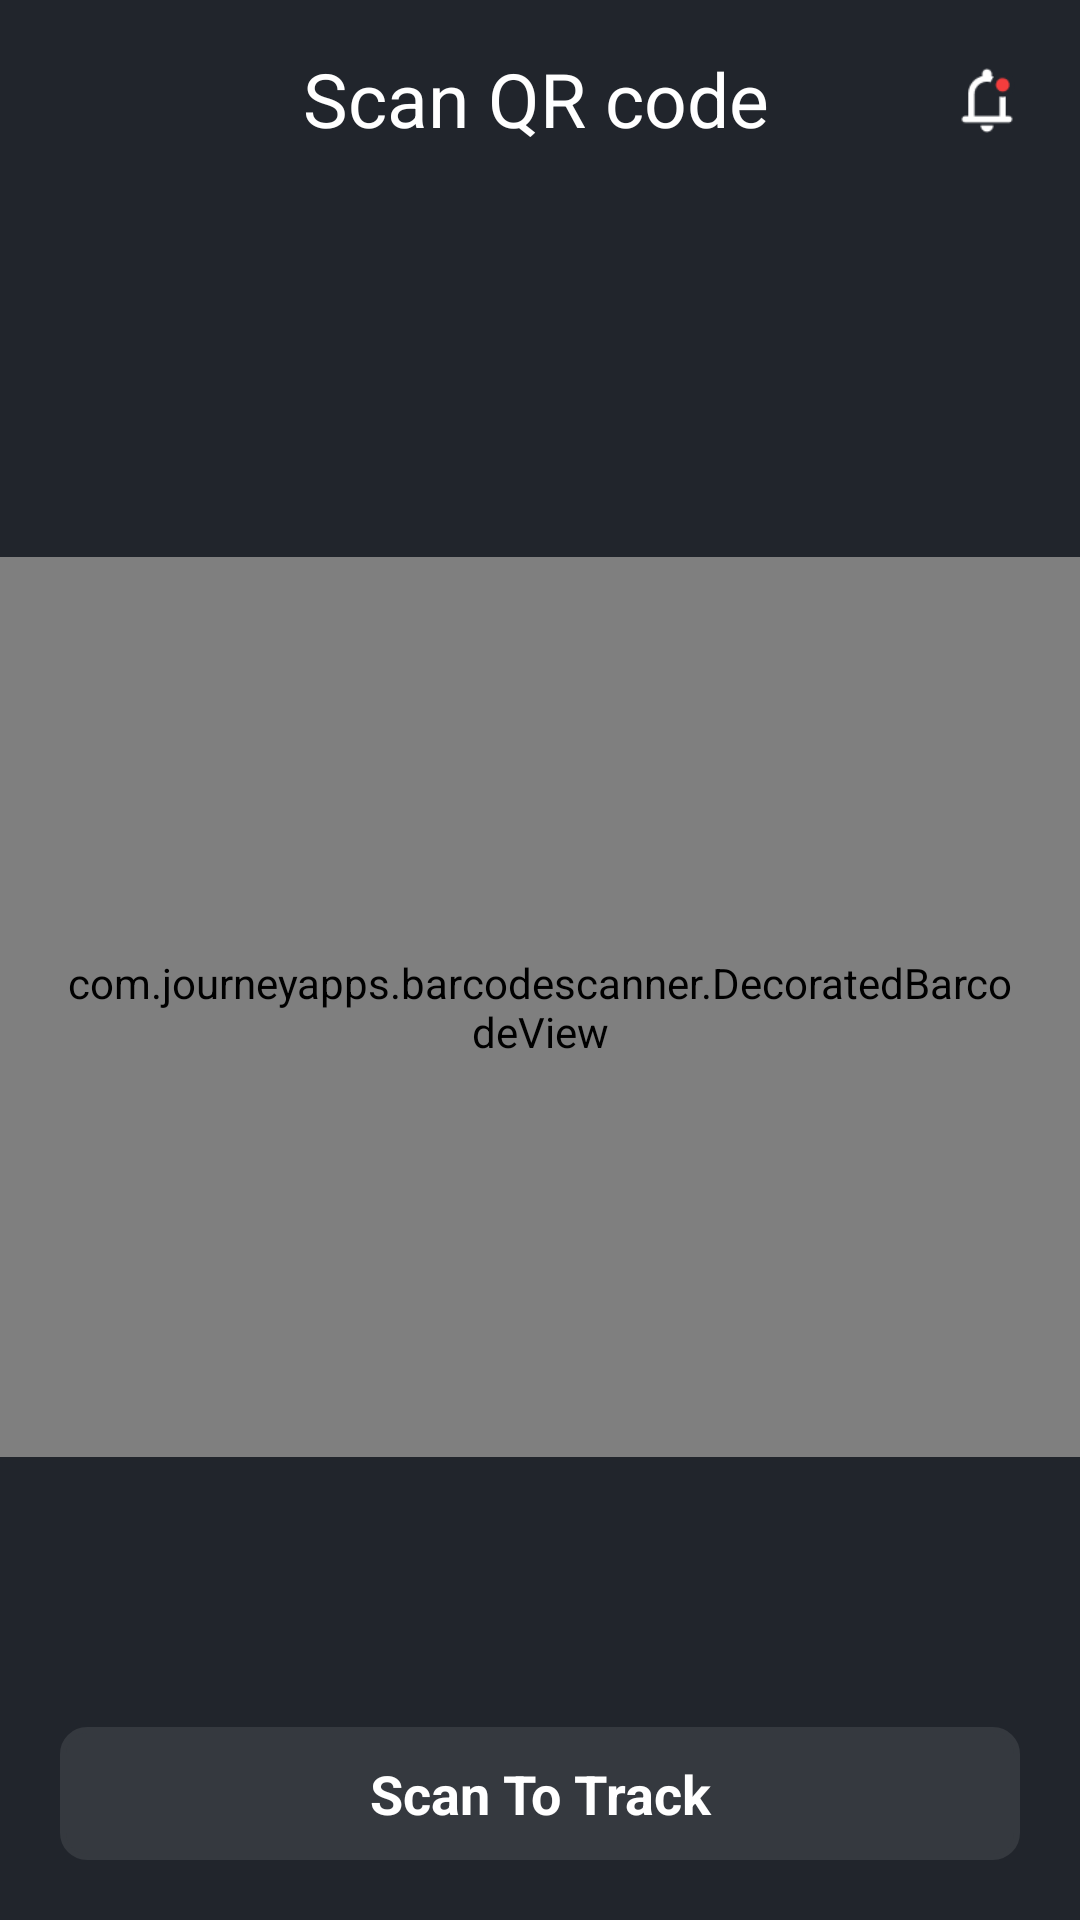

Locate icon controls on the screen. Image size 1080px×1920px, boxes as Rect(x1, y1, x2, y2).
bell: Rect(961, 68, 1013, 133)
